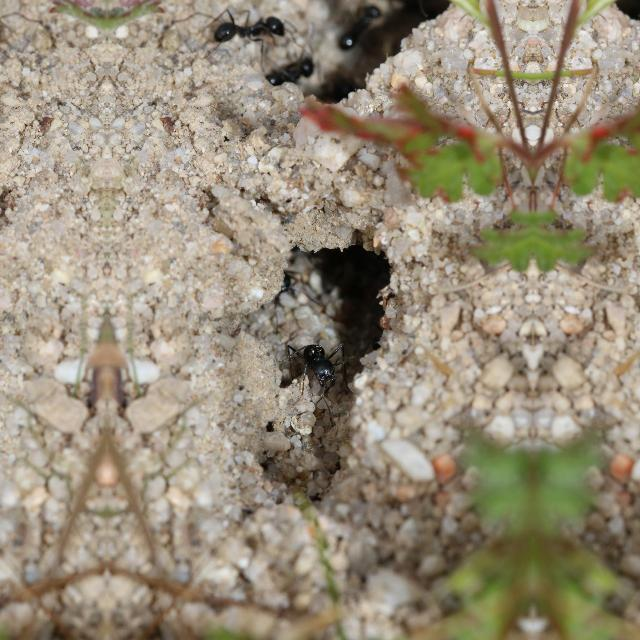Messor: (284, 330, 342, 396), (202, 10, 290, 48), (327, 0, 387, 54), (250, 50, 314, 96)
